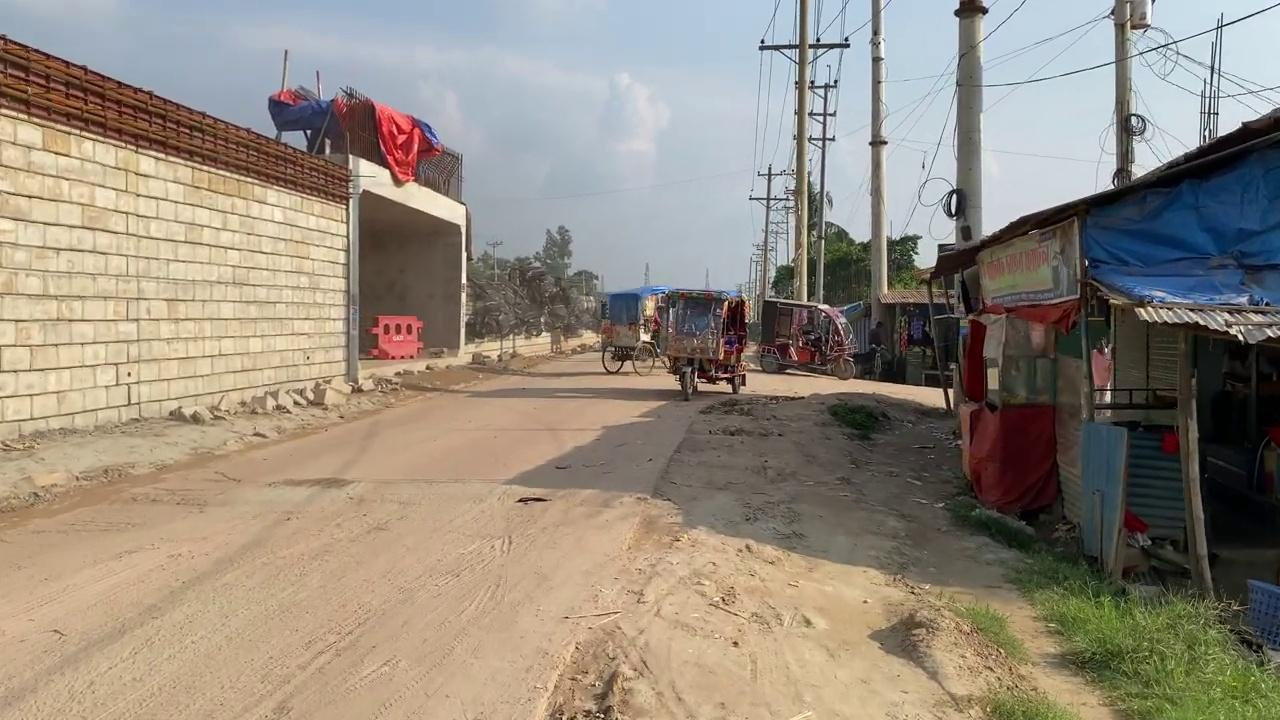Construction-barrier: (366, 313, 436, 360)
Obstacle: (917, 108, 1278, 603)
Pole: (953, 0, 987, 245), (867, 0, 890, 351), (792, 0, 810, 302), (1111, 0, 1134, 186)
Rickshaw: (536, 391, 998, 705)
Tree: (749, 0, 859, 380)
Upstairs: (0, 105, 352, 438)
